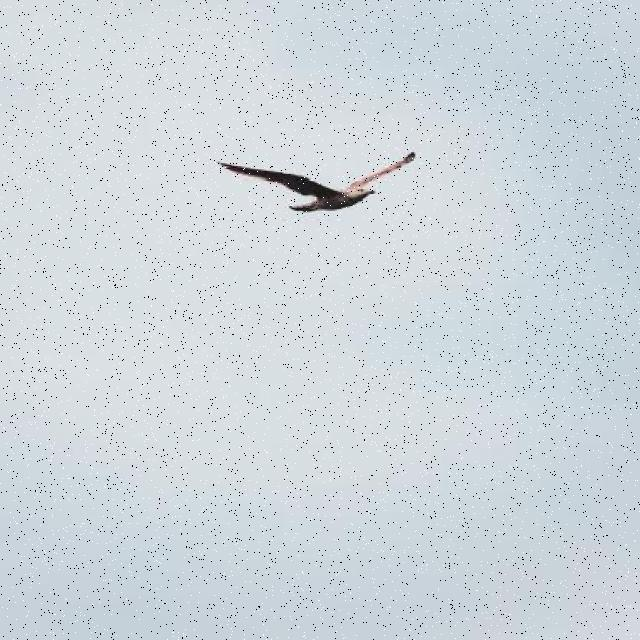bird: (210, 154, 424, 212)
